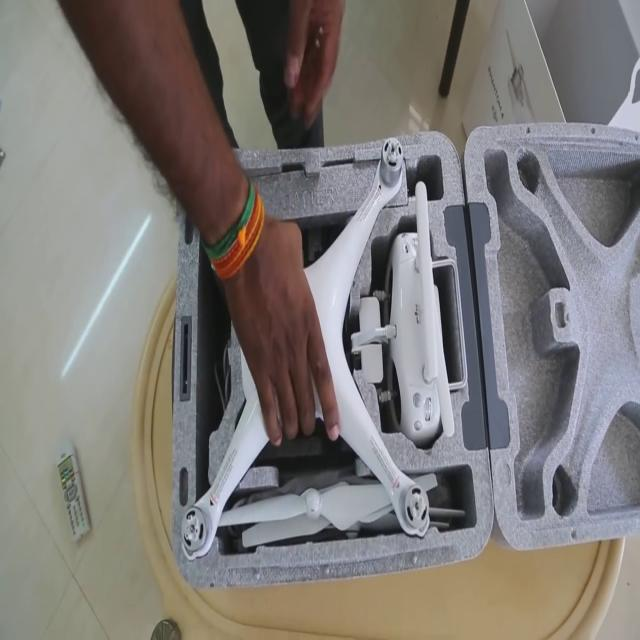drone: (163, 134, 423, 539)
